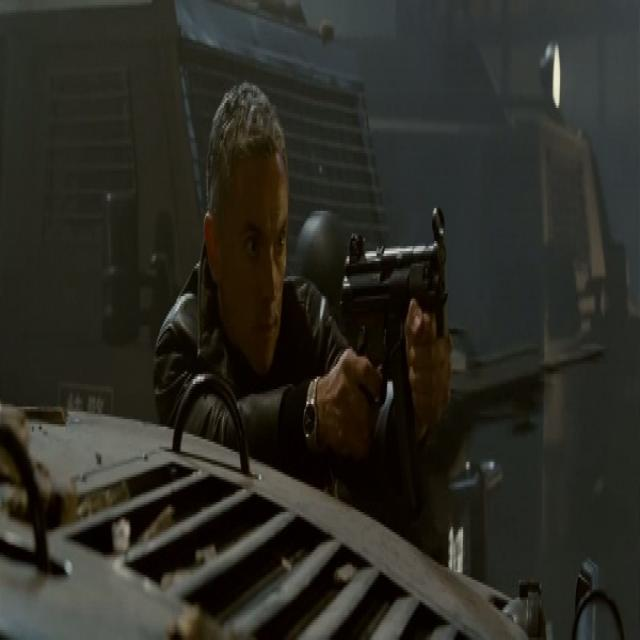rifle: (332, 193, 459, 431)
